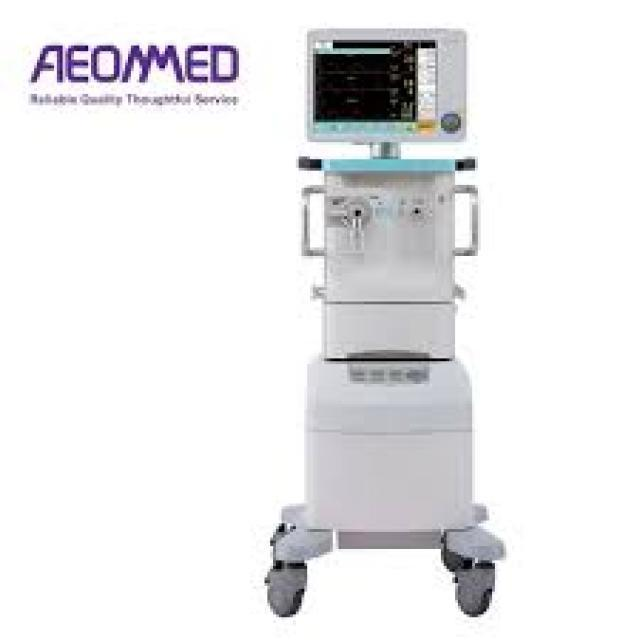ventilator: (281, 29, 524, 636)
